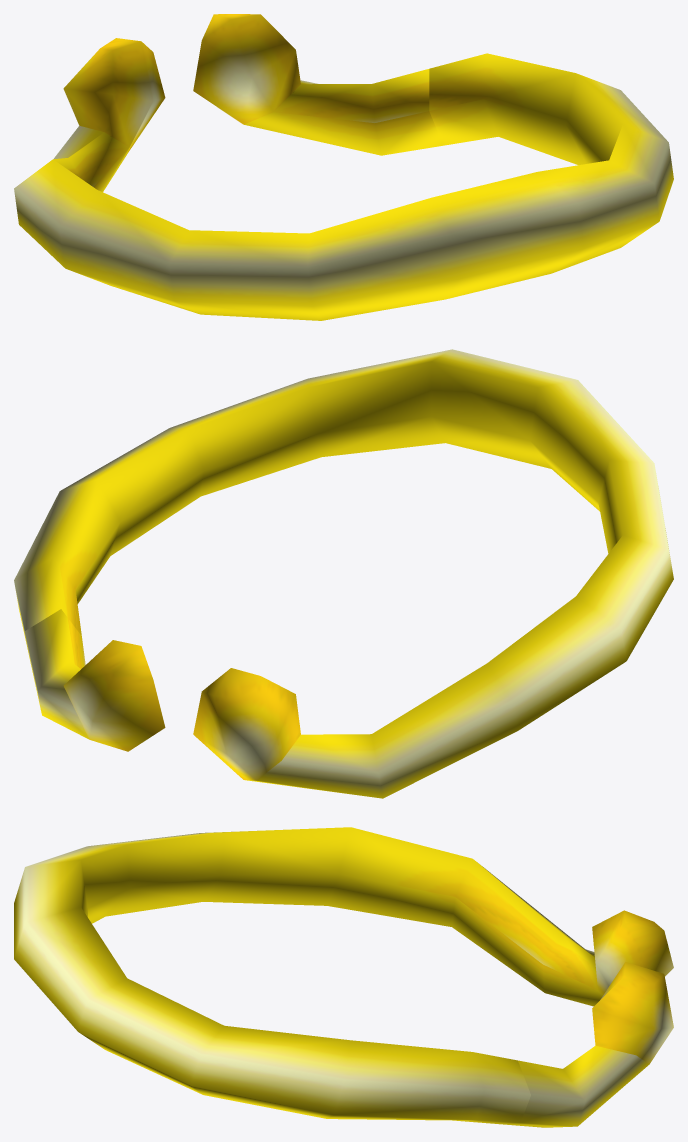
The model's file is mcicon.ico.obj.
3 renders of one model, top to bottom at view 1: azimuth 30°, elevation 25°; view 2: azimuth 150°, elevation 25°; view 3: azimuth 270°, elevation 25°, orthographic. The views are drawn at different scales.
Bounding box in the file's own units: 4.12 × 1.36 × 4.6.
1 material, 1 textured.
